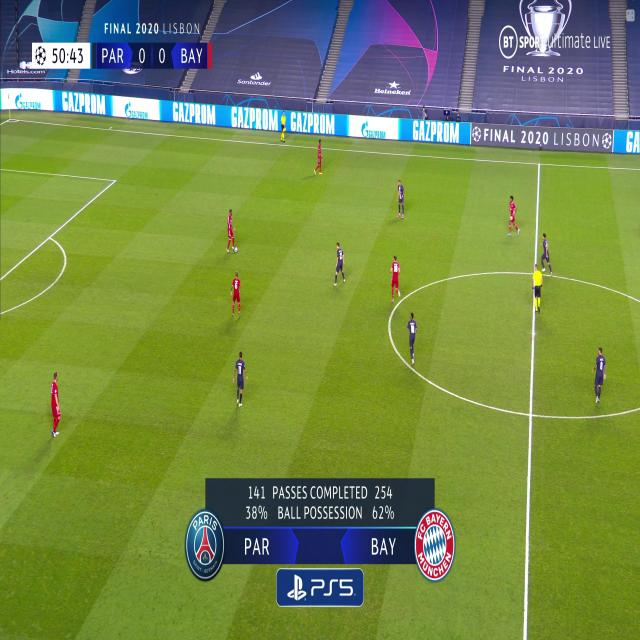ball: (234, 246, 239, 254)
player: (49, 371, 62, 438), (592, 345, 606, 405), (234, 350, 248, 409), (538, 232, 554, 274), (506, 194, 521, 237), (333, 240, 347, 286), (531, 263, 543, 315), (406, 310, 417, 366), (225, 208, 238, 253), (389, 254, 401, 302), (230, 271, 242, 319), (313, 138, 324, 175), (396, 180, 405, 220), (279, 112, 287, 143)
